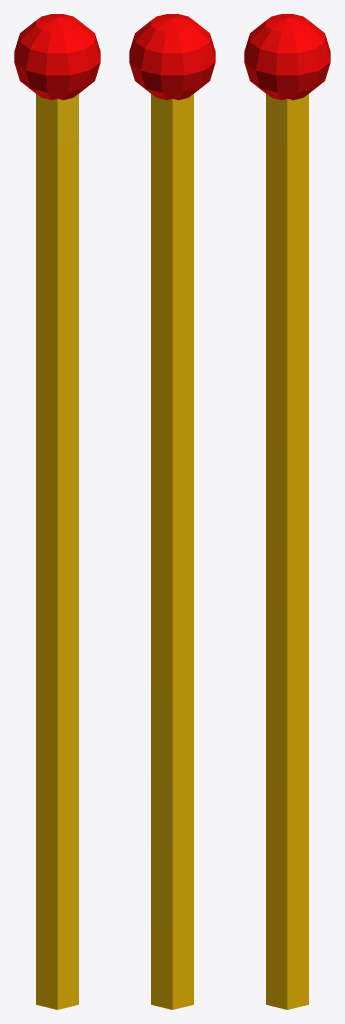
File: item_god_firebolt_staff.obj
3 renders of one model, left to right at view 1: azimuth 30°, elevation 25°; view 2: azimuth 150°, elevation 25°; view 3: azimuth 330°, elevation 25°, orthographic.
Parts seen in each view (by area): view 1: cylinder; view 2: cylinder; view 3: cylinder.
Part boxes in pixels (bbox=[...]): cylinder: bbox=[14, 14, 100, 1009]; cylinder: bbox=[129, 14, 215, 1009]; cylinder: bbox=[244, 14, 330, 1009].
Bounding box in the file's own units: 0.0625 × 0.7812 × 0.0625.
Materials: 1 (1 with a texture image).
